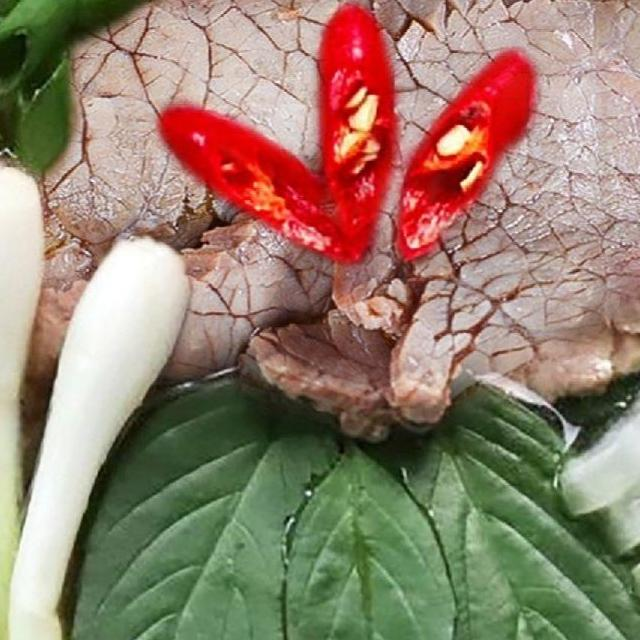pho bo: (0, 0, 640, 640)
thit bo: (0, 0, 640, 453), (0, 0, 640, 70)
